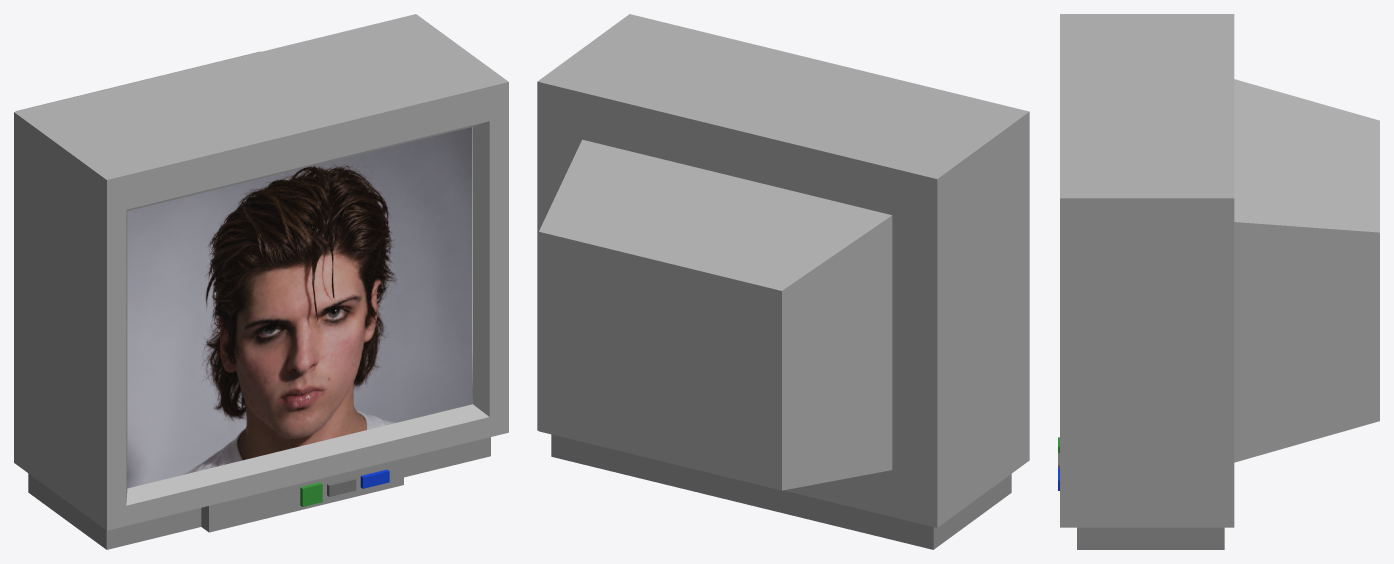
The picture shows the model from 3 angles, left to right: view 1: azimuth 30°, elevation 25°; view 2: azimuth 150°, elevation 25°; view 3: azimuth 270°, elevation 25°; orthographic projection. The views are drawn at different scales.
Visible parts, largest first — view 1: Cube; view 2: Cube; view 3: Cube.
Boxes of the visible parts, bbox=[...] form: Cube: bbox=[14, 14, 508, 549]; Cube: bbox=[537, 14, 1029, 549]; Cube: bbox=[1060, 14, 1379, 549].
Size of the model in its own units: 6 by 5.4 by 4.43.
Materials: 6 (1 with a texture image).
